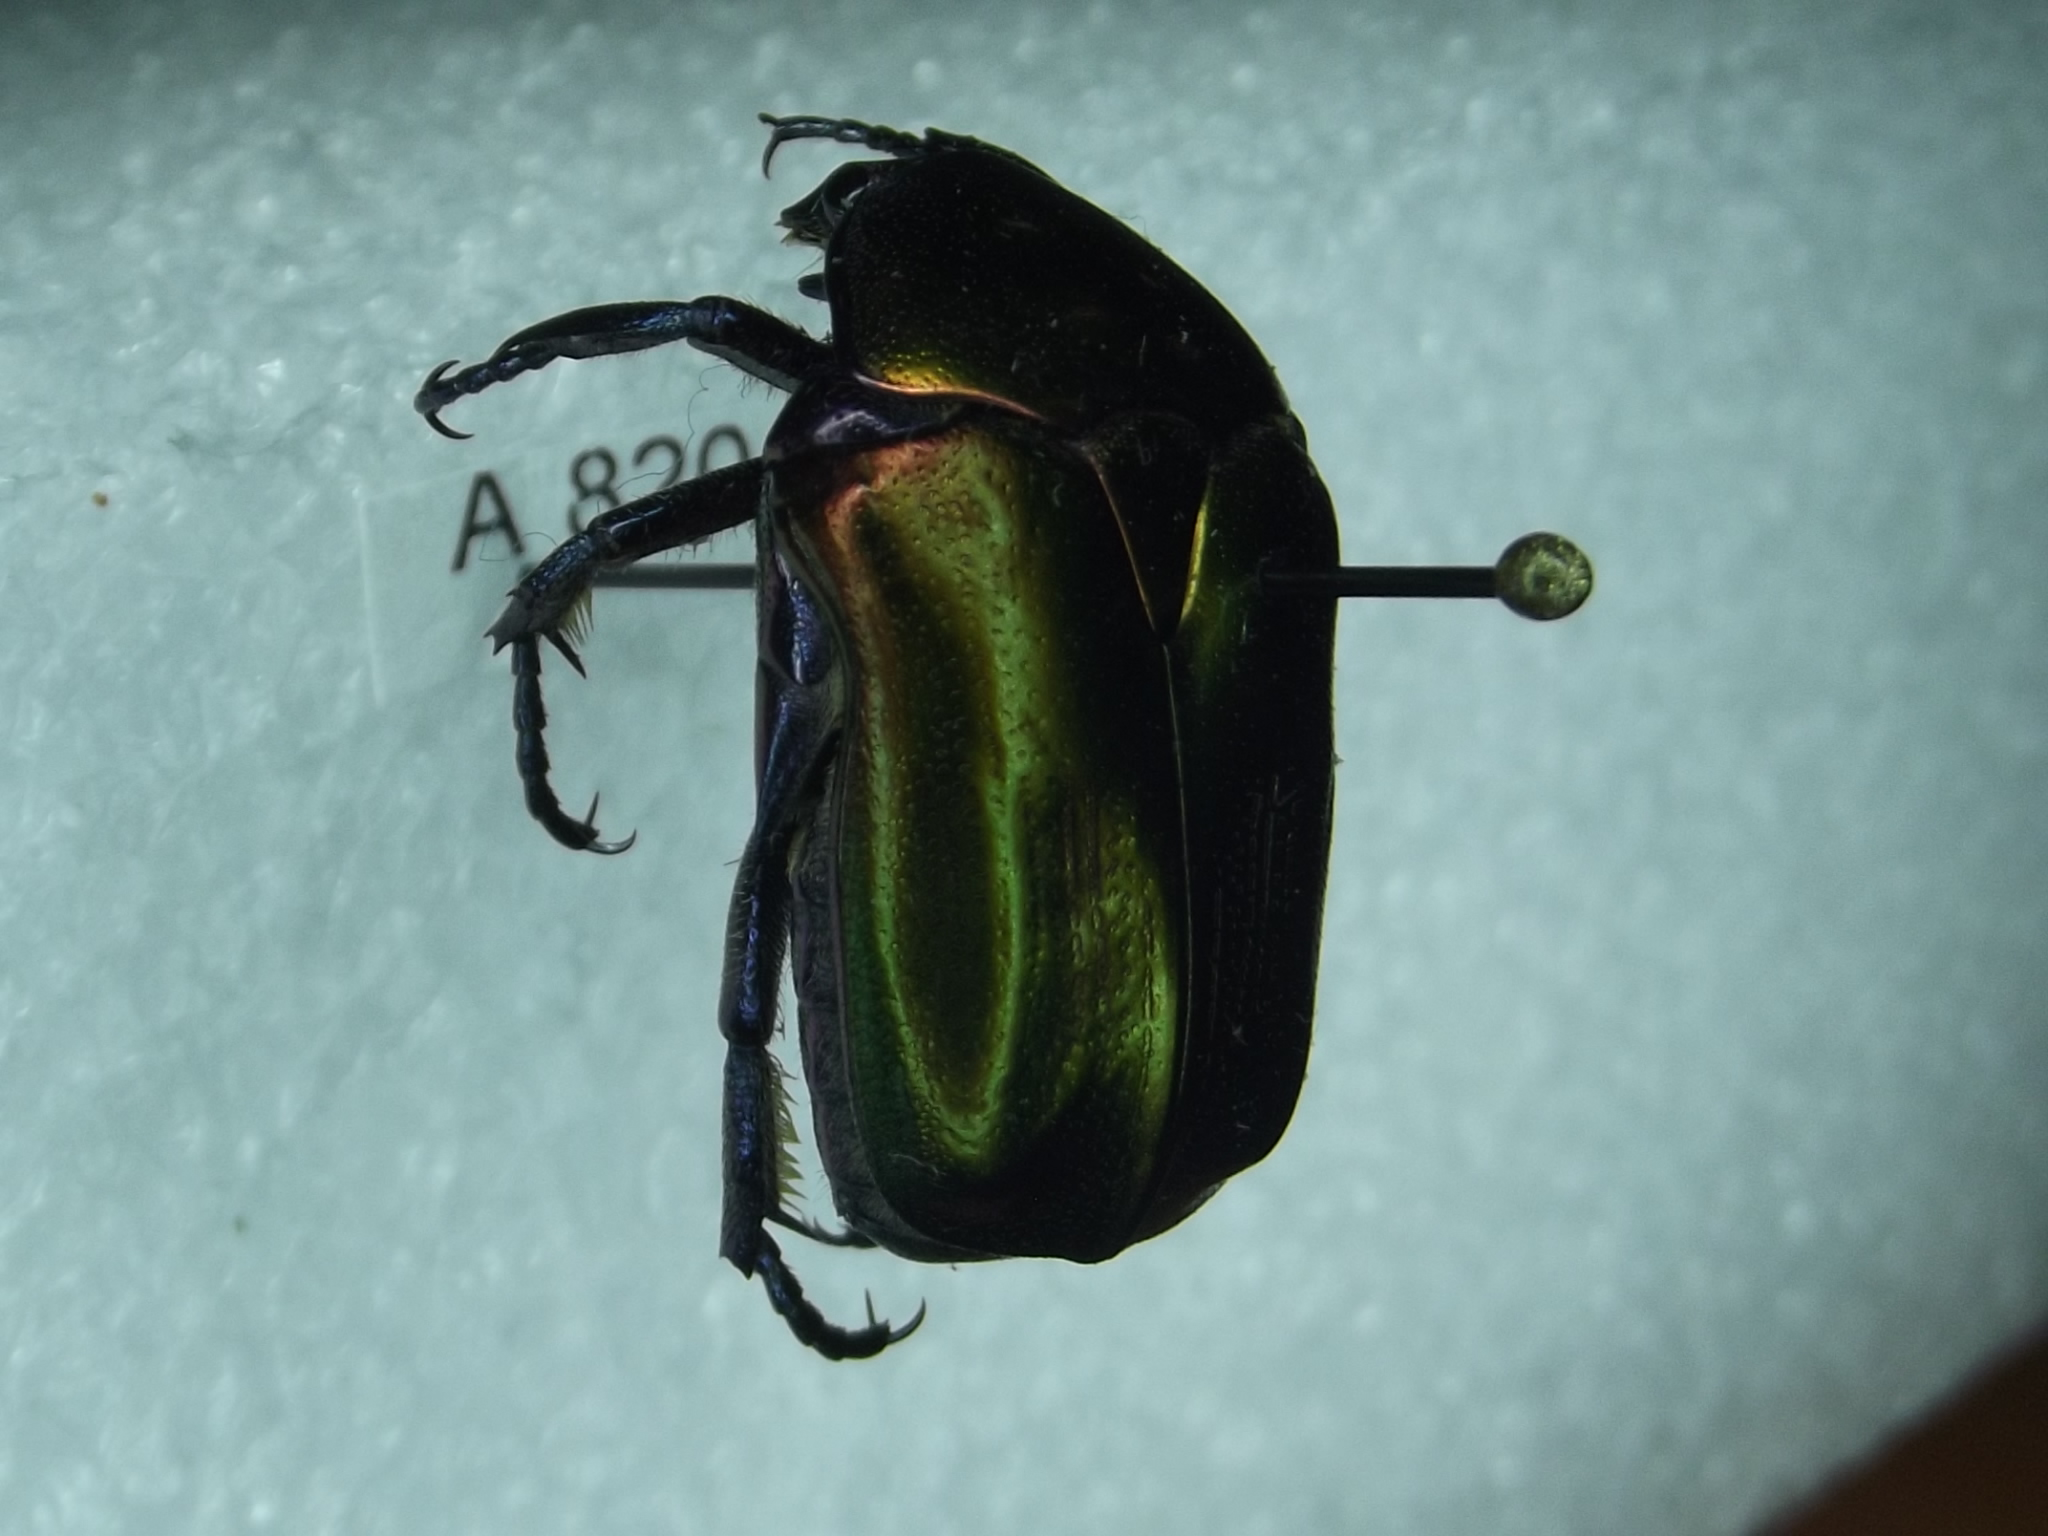Protaetia_cuprea_ignicollis: (411, 103, 1355, 1384)
